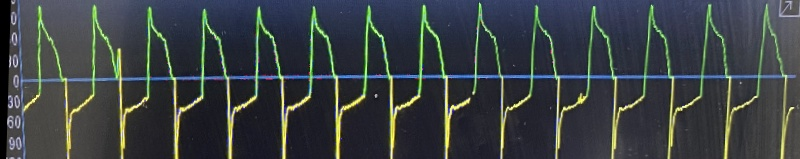peepi: (17, 3, 791, 157)
